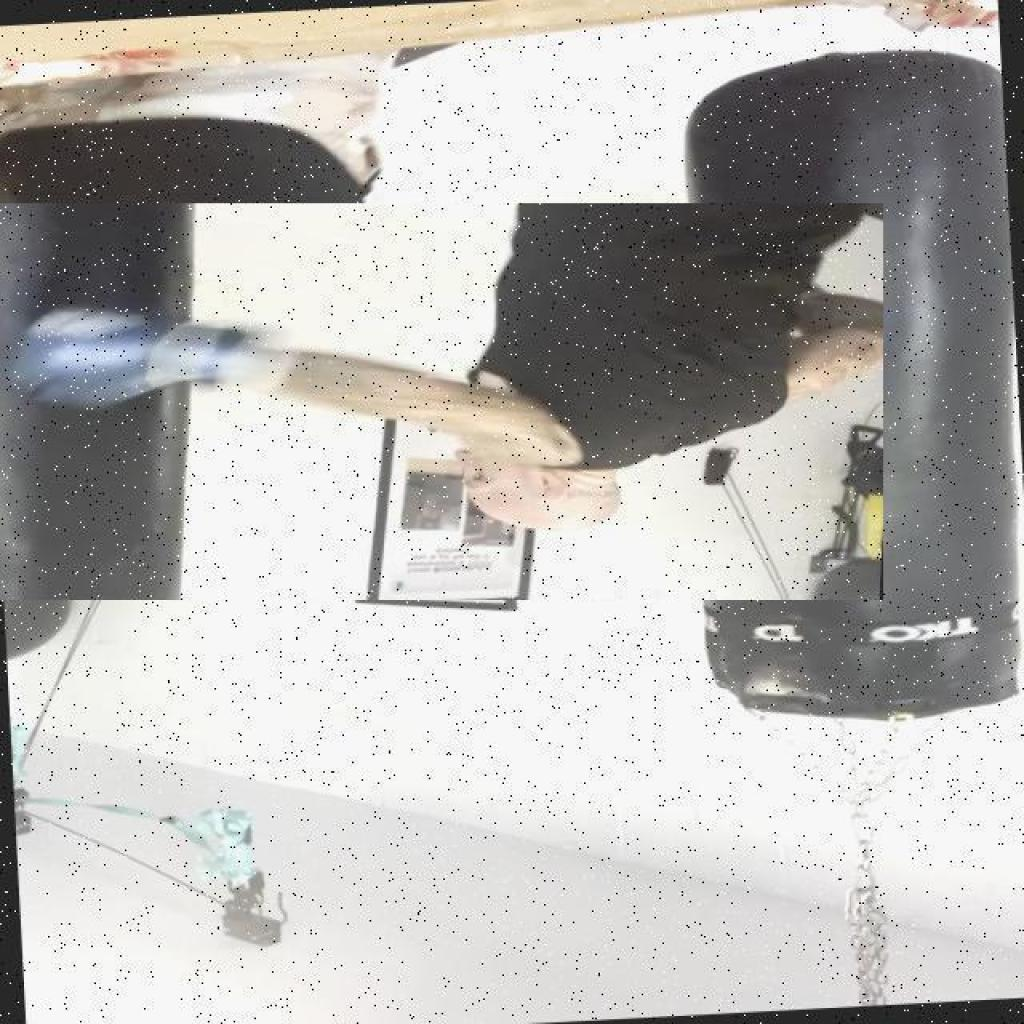bag: (641, 56, 1024, 733)
hook: (0, 203, 883, 600)
